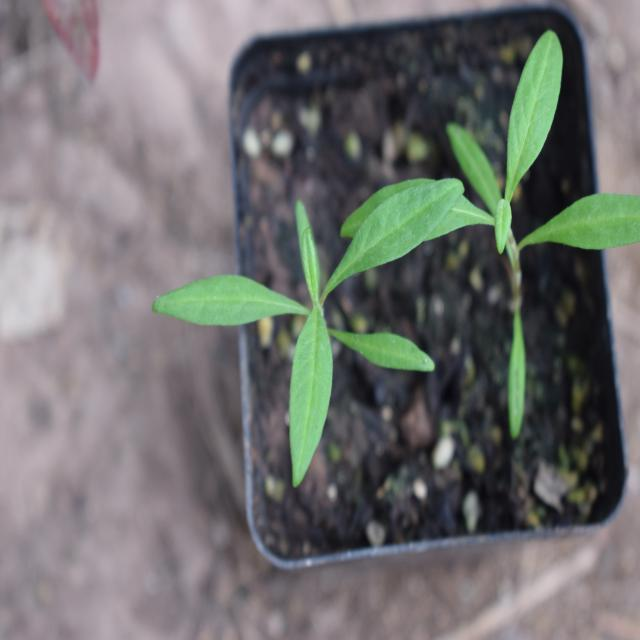white_smart_weed: (135, 185, 470, 483), (390, 46, 617, 391)
